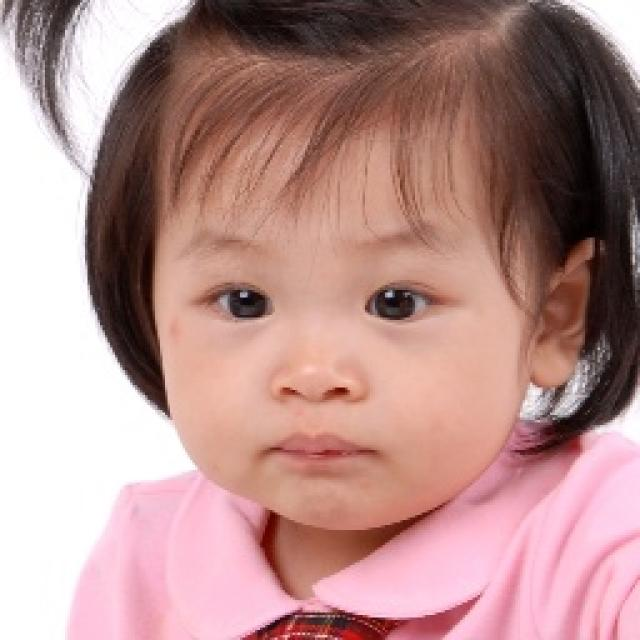earlobe: (526, 336, 573, 391)
eye: (361, 280, 446, 326), (197, 282, 277, 322)
nose: (263, 380, 367, 433)
wholeear: (527, 237, 606, 389)
